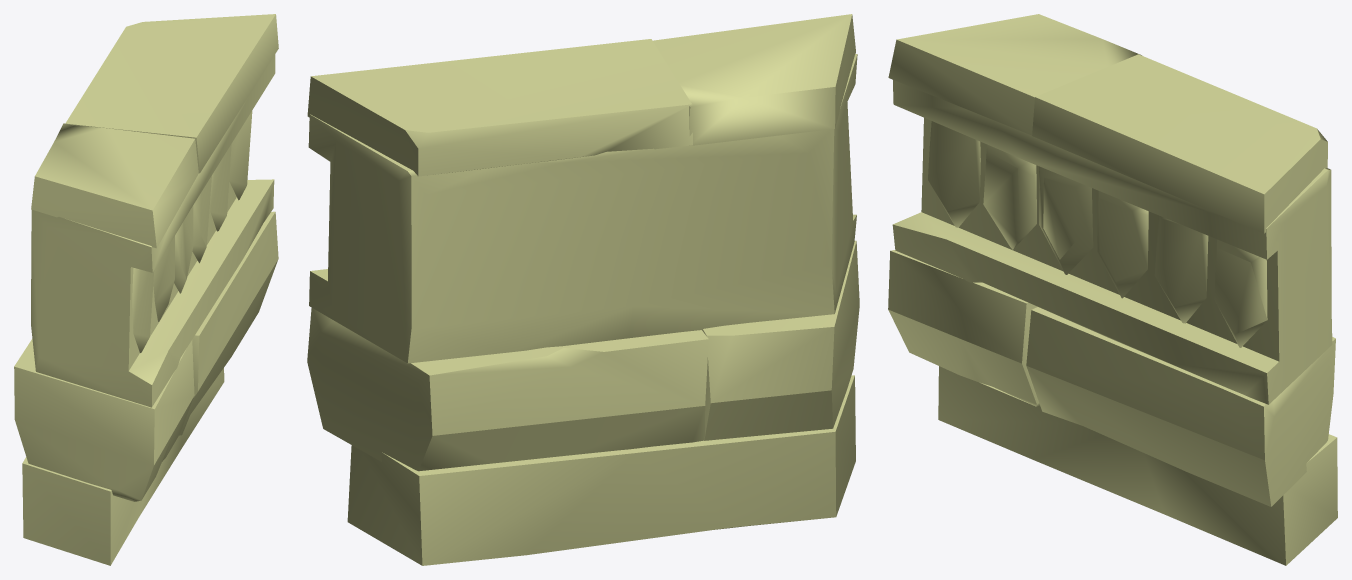
The model's file is Bariere_short_06.fbx.
3 renders of one model, left to right at view 1: azimuth 30°, elevation 25°; view 2: azimuth 150°, elevation 25°; view 3: azimuth 270°, elevation 25°, orthographic. The views are drawn at different scales.
Visible parts, largest first — view 1: Bariere_short_06_LOD1; view 2: Bariere_short_06_LOD1; view 3: Bariere_short_06_LOD1.
Boxes of the visible parts, left/top/right/bottom form: Bariere_short_06_LOD1: left=14, top=14, right=278, bottom=565; Bariere_short_06_LOD1: left=307, top=14, right=859, bottom=565; Bariere_short_06_LOD1: left=888, top=14, right=1337, bottom=565.
Size of the model in its own units: 152 by 148 by 153.
